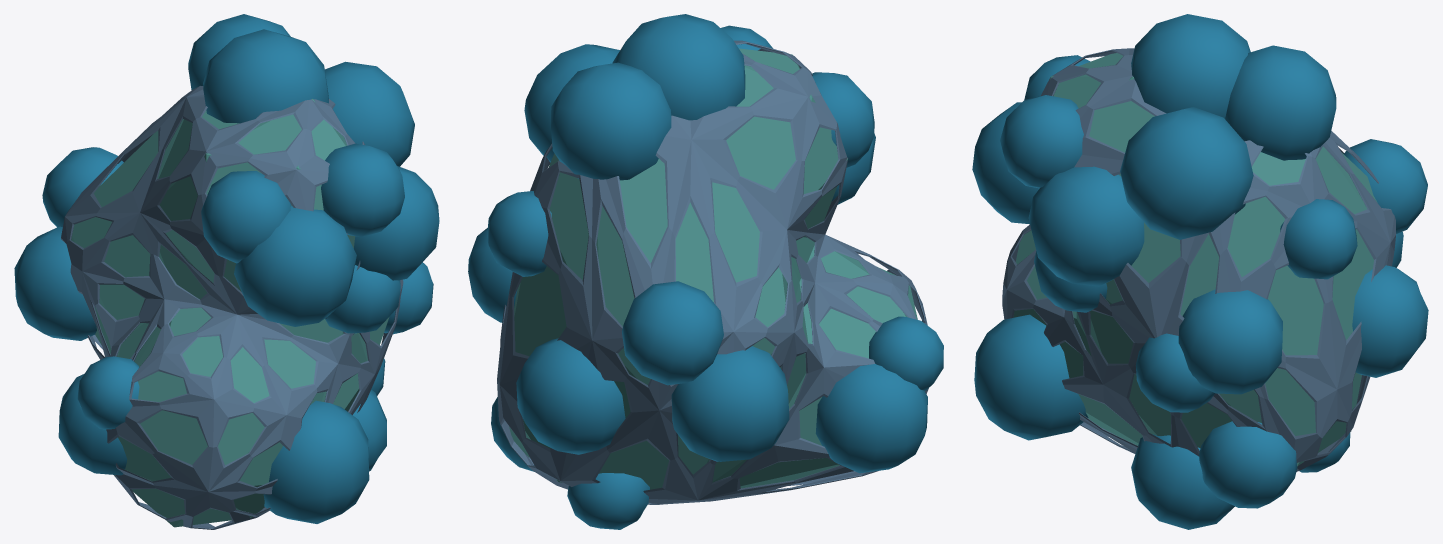
File: glueBush8.fbx
3 views of the same model, side by side, from view 1: azimuth 30°, elevation 25°; view 2: azimuth 150°, elevation 25°; view 3: azimuth 270°, elevation 25° (orthographic). The views are drawn at different scales.
Visible parts, largest first — view 1: Mball.009; view 2: Mball.009; view 3: Mball.009.
Part boxes in pixels (<box>): Mball.009: <box>14,14,439,529</box>; Mball.009: <box>468,14,943,529</box>; Mball.009: <box>972,14,1428,529</box>.
Size of the model in its own units: 248 by 283 by 248.
